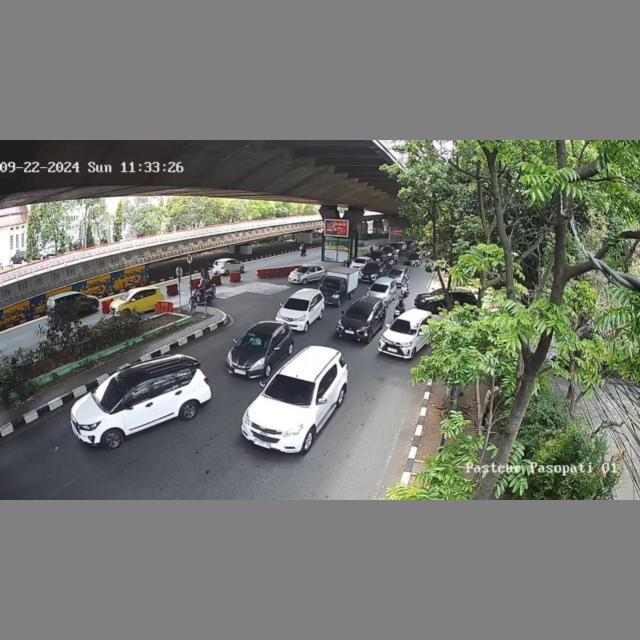windshield: (265, 374, 316, 406), (91, 374, 135, 408), (238, 328, 273, 354), (389, 316, 421, 335), (346, 306, 374, 323), (282, 298, 310, 310), (318, 277, 342, 289), (370, 284, 390, 293)
